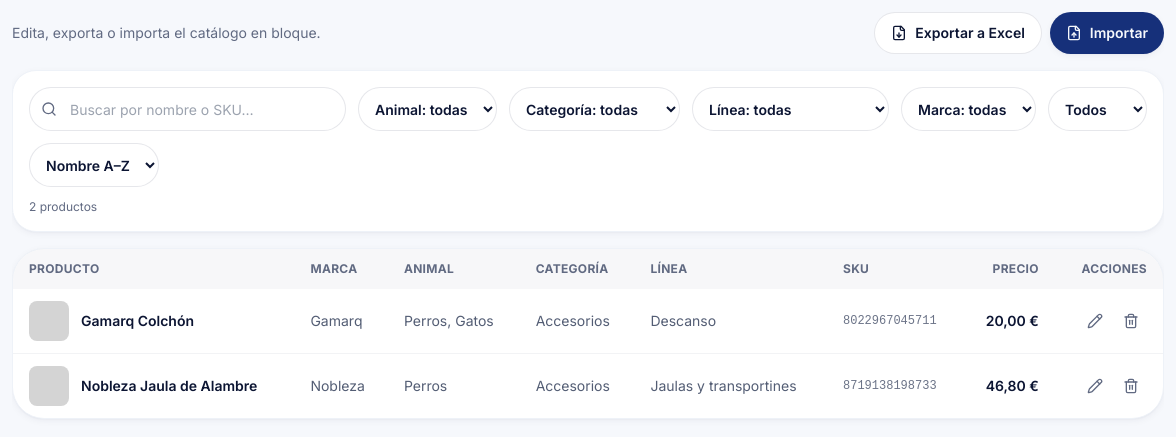
ProductosPanel › la búsqueda filtra por nombre o SKU
Check: the link "Nobleza Jaula de Alambre" is shown, box [81,376,257,396]
Type "Gamarq" into the field with placeholder "Buscar por nombre o SKU…" at point(188, 109), box [29,87,346,131]
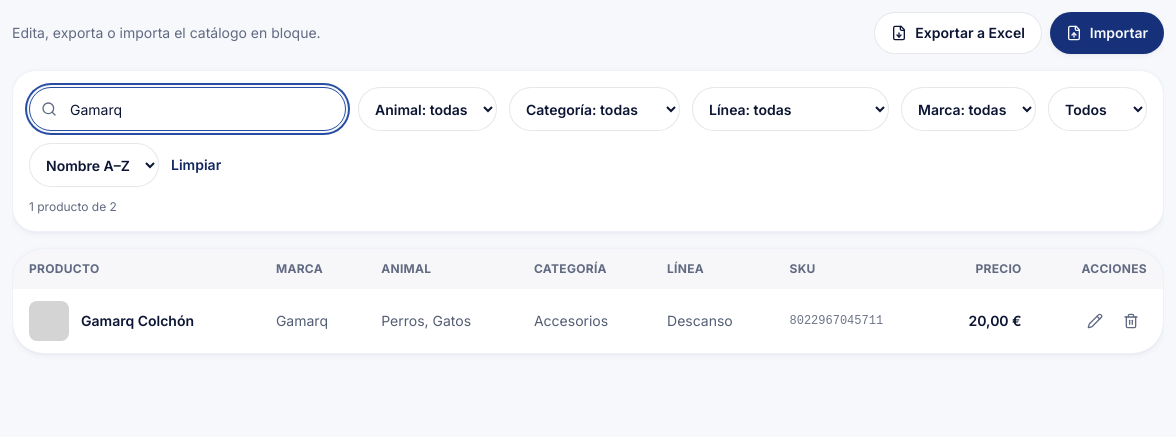
Check: the link "Gamarq Colchón" is shown, box [81,311,194,331]
Check: the link "Nobleza Jaula de Alambre" is gone
